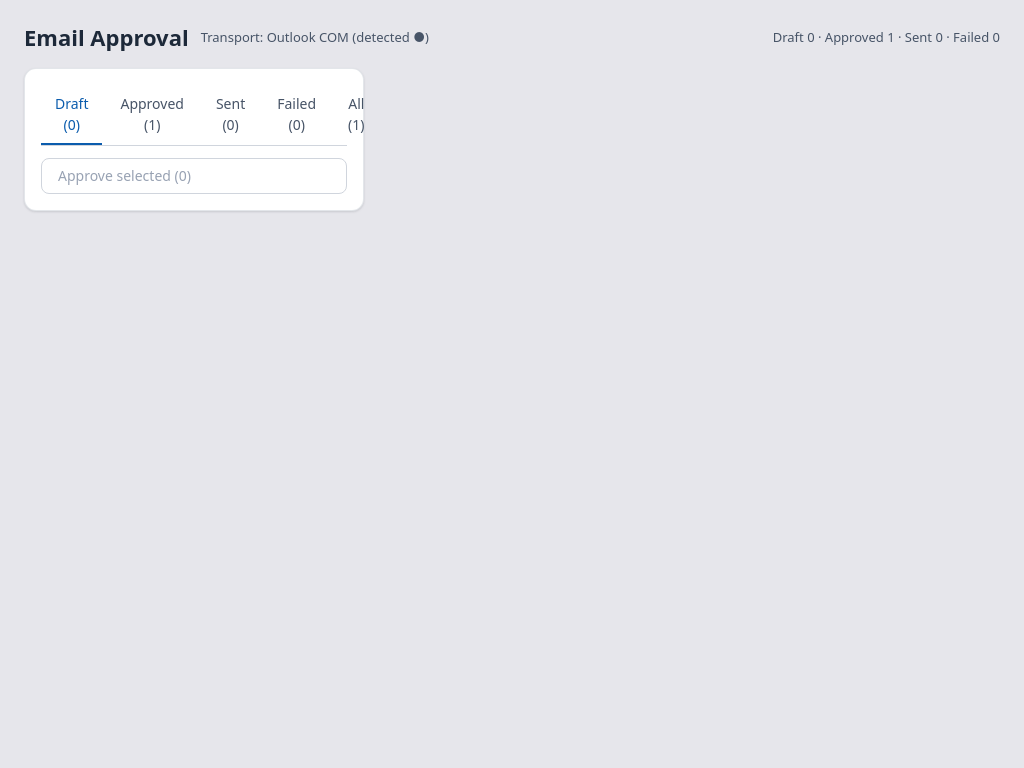
EmailApprovalPage transport handoff › shows created follow-up
Click the tab "Approved (1)": (152, 114) [106, 84, 198, 144]
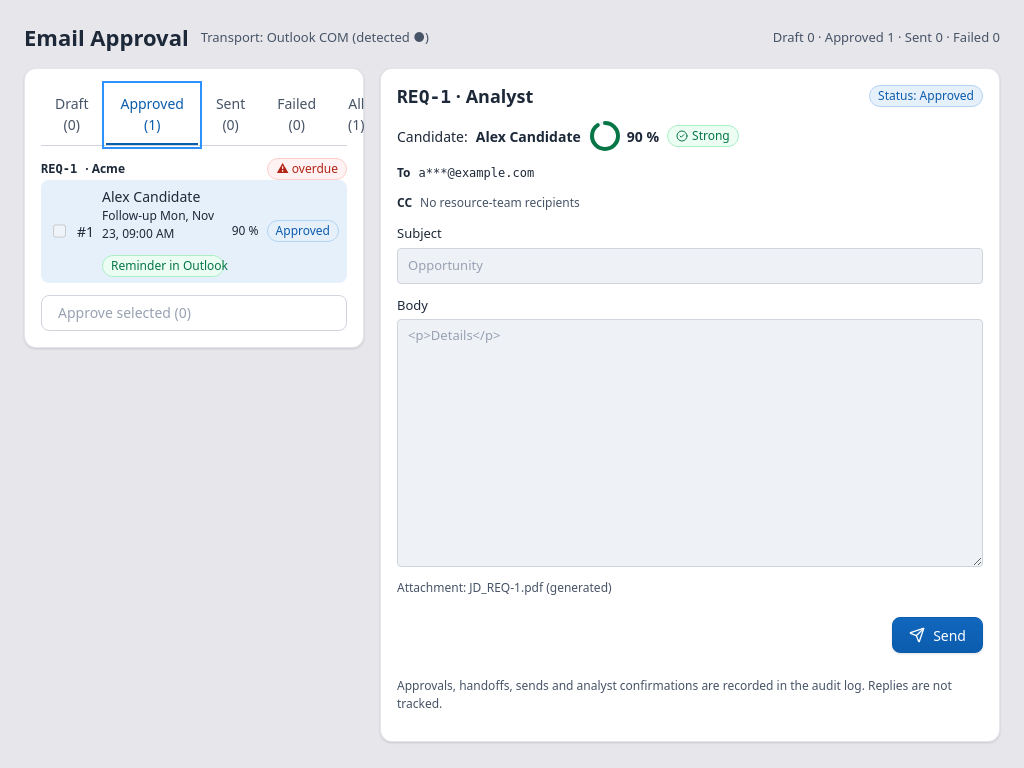
Check: the text "Reminder in Outlook" is shown, box [102, 254, 224, 276]
Check: the text "Follow-up Mon, Nov 23, 09:00 AM" is shown, box [102, 206, 224, 242]
